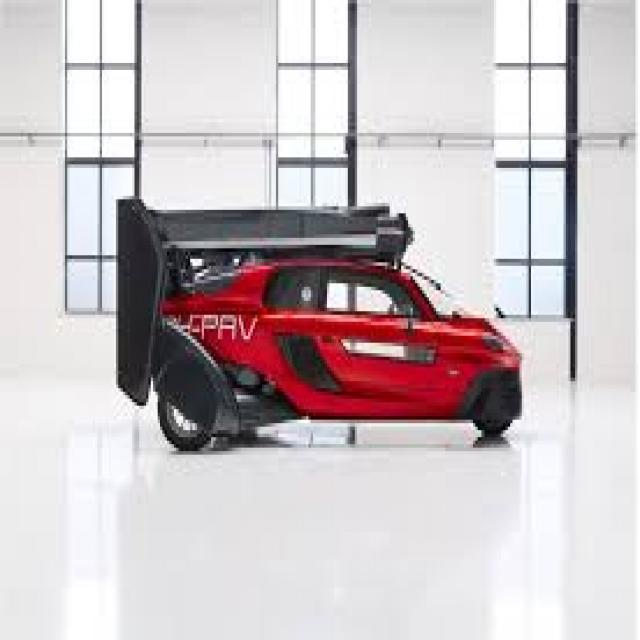Car: (120, 193, 514, 459)
